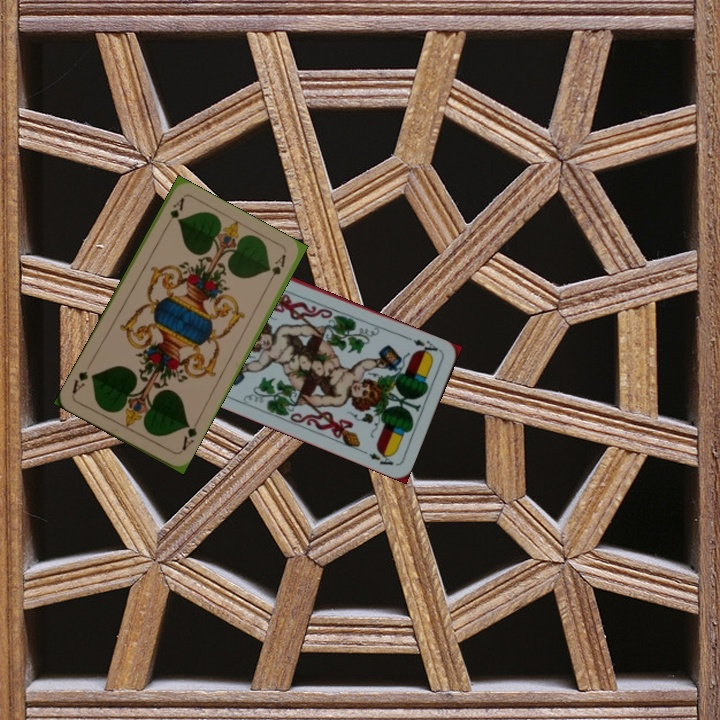EA: (404, 333, 443, 359)
GA: (161, 194, 187, 232), (176, 418, 200, 454)
